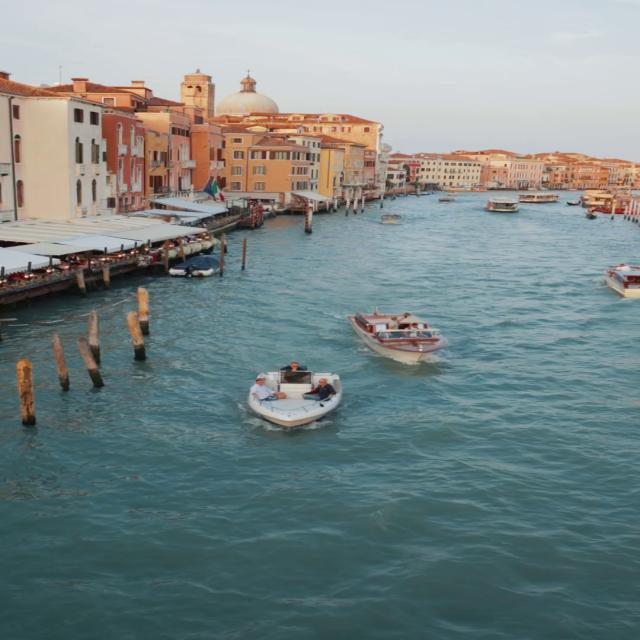ship: (244, 364, 344, 432), (350, 309, 447, 364), (604, 264, 640, 300), (486, 195, 524, 212), (521, 192, 559, 203), (380, 214, 403, 226)
